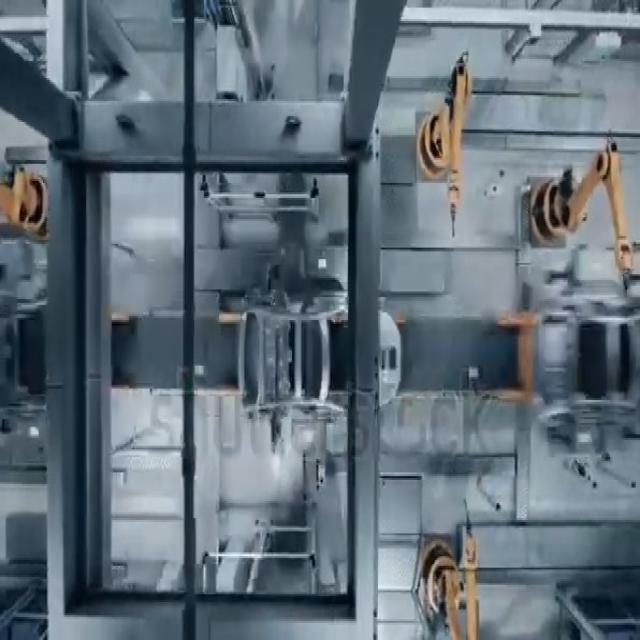auto: (235, 278, 408, 425), (527, 287, 640, 416)
robot: (526, 118, 634, 307), (408, 508, 502, 640), (408, 60, 477, 239)
